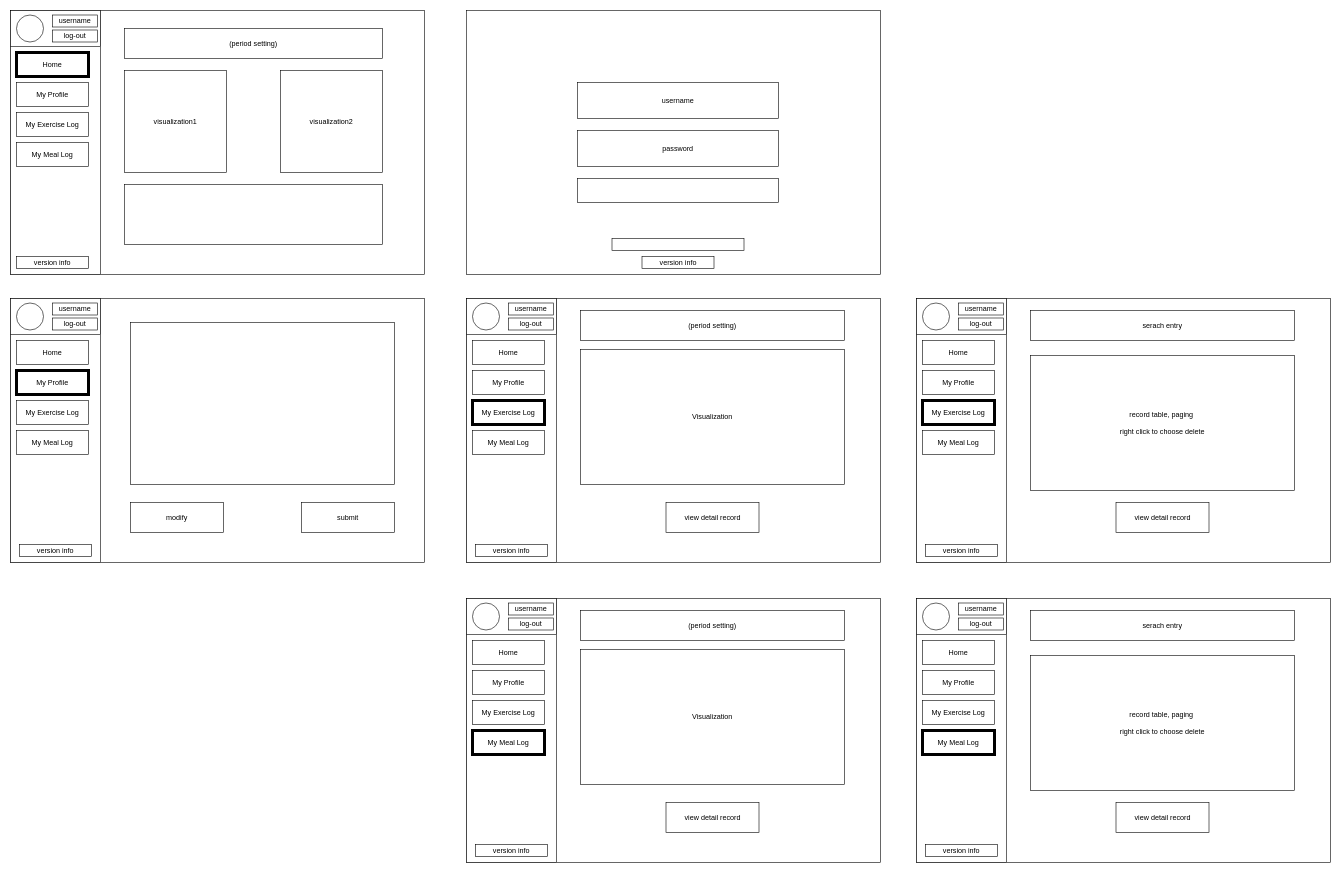
Some shapes in this 1341 by 873 pixel diagram are drawn without their labels. The shapes that lost their labels are listed below. From the top down, each one's box as (x1, y1, x2, y2) in pixels, then its label:
(577, 178, 778, 202): sign-in
(124, 184, 382, 244): (perdict)
(611, 238, 744, 250): register link
(130, 322, 394, 484): User Info Form
